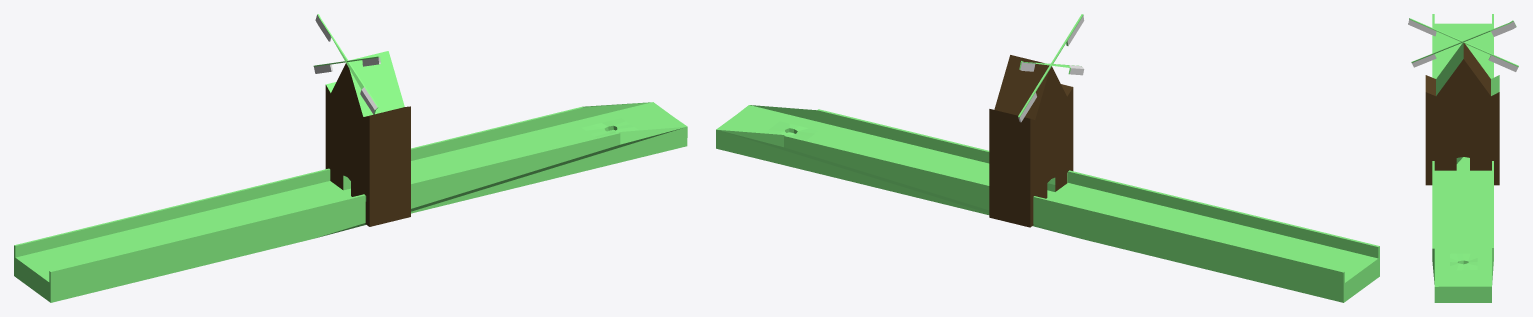
3 renders of one model, left to right at view 1: azimuth 30°, elevation 25°; view 2: azimuth 150°, elevation 25°; view 3: azimuth 270°, elevation 25°, orthographic. The views are drawn at different scales.
Visible parts, largest first — view 1: Cube; view 2: Cube; view 3: Cube.
Part boxes in pixels (left/top/right/bottom): Cube: left=14, top=14, right=687, bottom=302; Cube: left=716, top=14, right=1379, bottom=302; Cube: left=1408, top=14, right=1518, bottom=302.
Bounding box in the file's own units: 6899 × 1853 × 1229.
